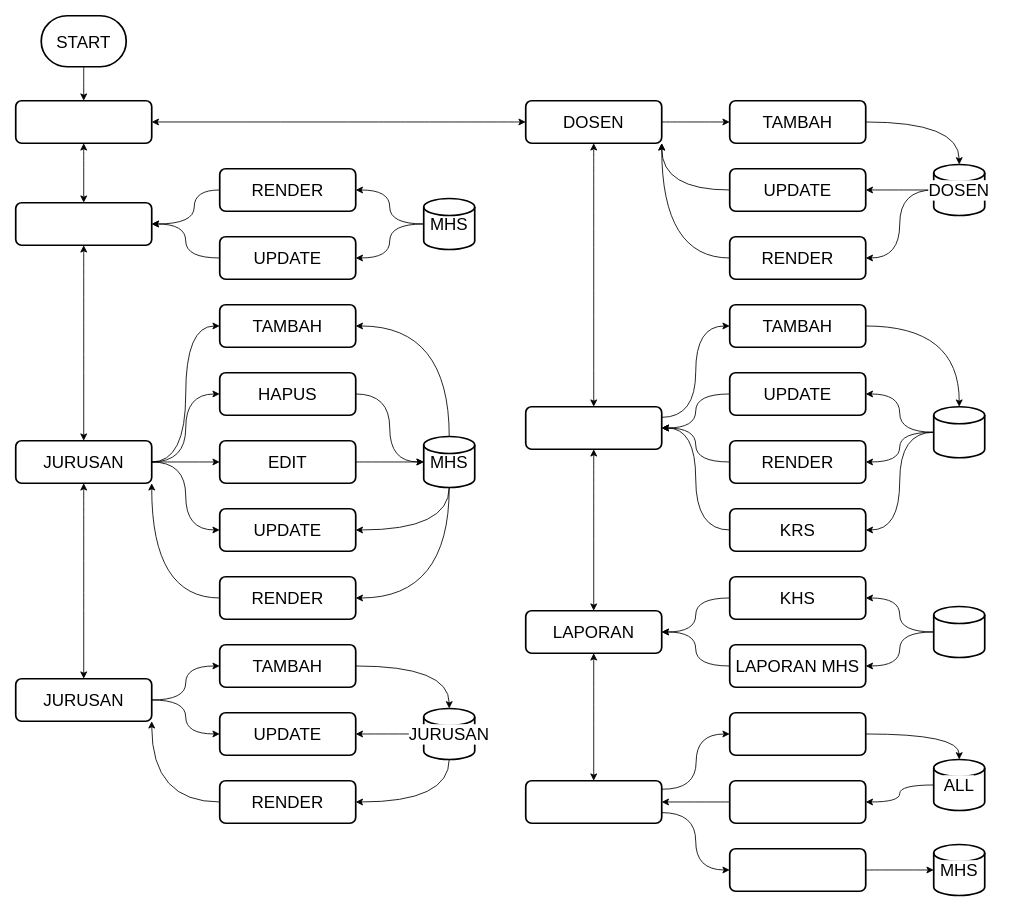
Some shapes in this 1012 by 910 pixel diagram are drawn without their labels. The shapes that lost their labels are listed below. From the top down, each one's centre as x and y in pixels, then its label:
point 83,121: MAIN
point 83,223: DASHBOARD
point 593,427: MATA KULIAH
point 958,431: SUBJECT
point 958,631: REKAP
point 797,733: BACKUP
point 593,801: PENGATURAN
point 797,801: RESTORE
point 797,869: MANAGE ACC
